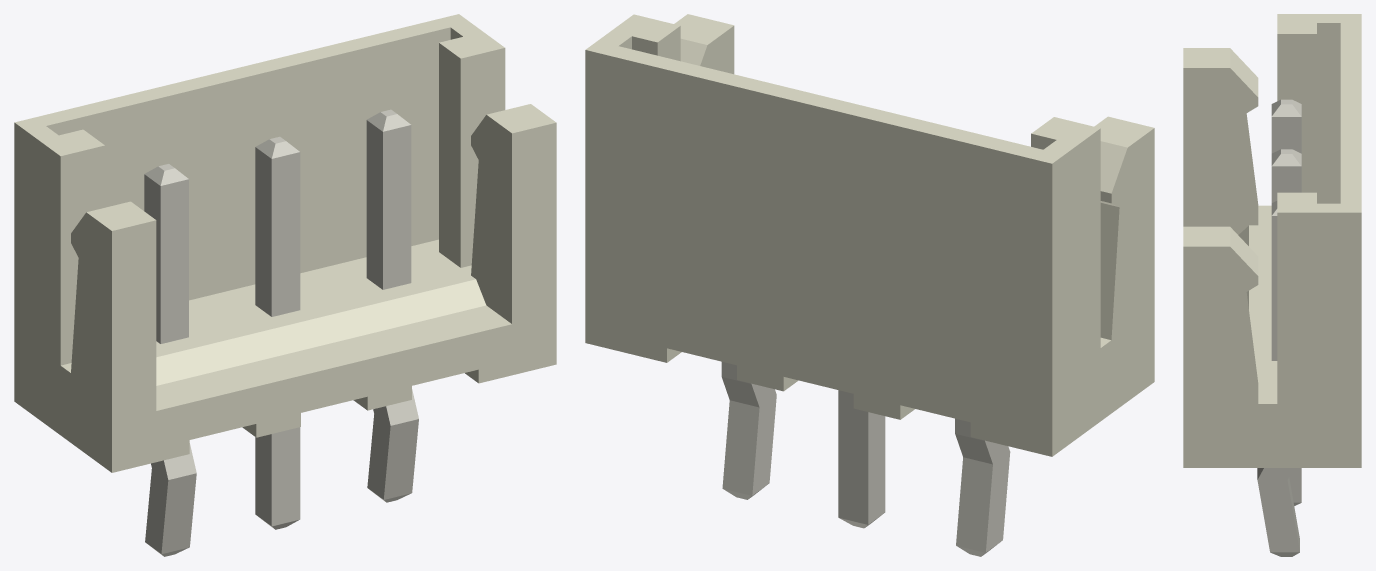
File: kc-jst_eh_b3b-eh-a_1x03_p2.50mm_vertical.glb
3 renders of one model, left to right at view 1: azimuth 30°, elevation 25°; view 2: azimuth 150°, elevation 25°; view 3: azimuth 270°, elevation 25°, orthographic. The views are drawn at different scales.
Parts seen in each view (by area): view 1: 0.75_0.75_0.5833333333333334_0, 0.6666666666666666_0.6666666666666666_0.5833333333333334_0.8; view 2: 0.75_0.75_0.5833333333333334_0, 0.6666666666666666_0.6666666666666666_0.5833333333333334_0.8; view 3: 0.75_0.75_0.5833333333333334_0, 0.6666666666666666_0.6666666666666666_0.5833333333333334_0.8.
Part boxes in pixels (x1,y1,x2,y2): 0.75_0.75_0.5833333333333334_0: (14,14,556,472); 0.6666666666666666_0.6666666666666666_0.5833333333333334_0.8: (144,109,418,556); 0.75_0.75_0.5833333333333334_0: (585,14,1154,456); 0.6666666666666666_0.6666666666666666_0.5833333333333334_0.8: (721,362,1010,556); 0.75_0.75_0.5833333333333334_0: (1183,14,1361,467); 0.6666666666666666_0.6666666666666666_0.5833333333333334_0.8: (1257,99,1301,556).
Bounding box in the file's own units: 1 × 0.92 × 0.38.
